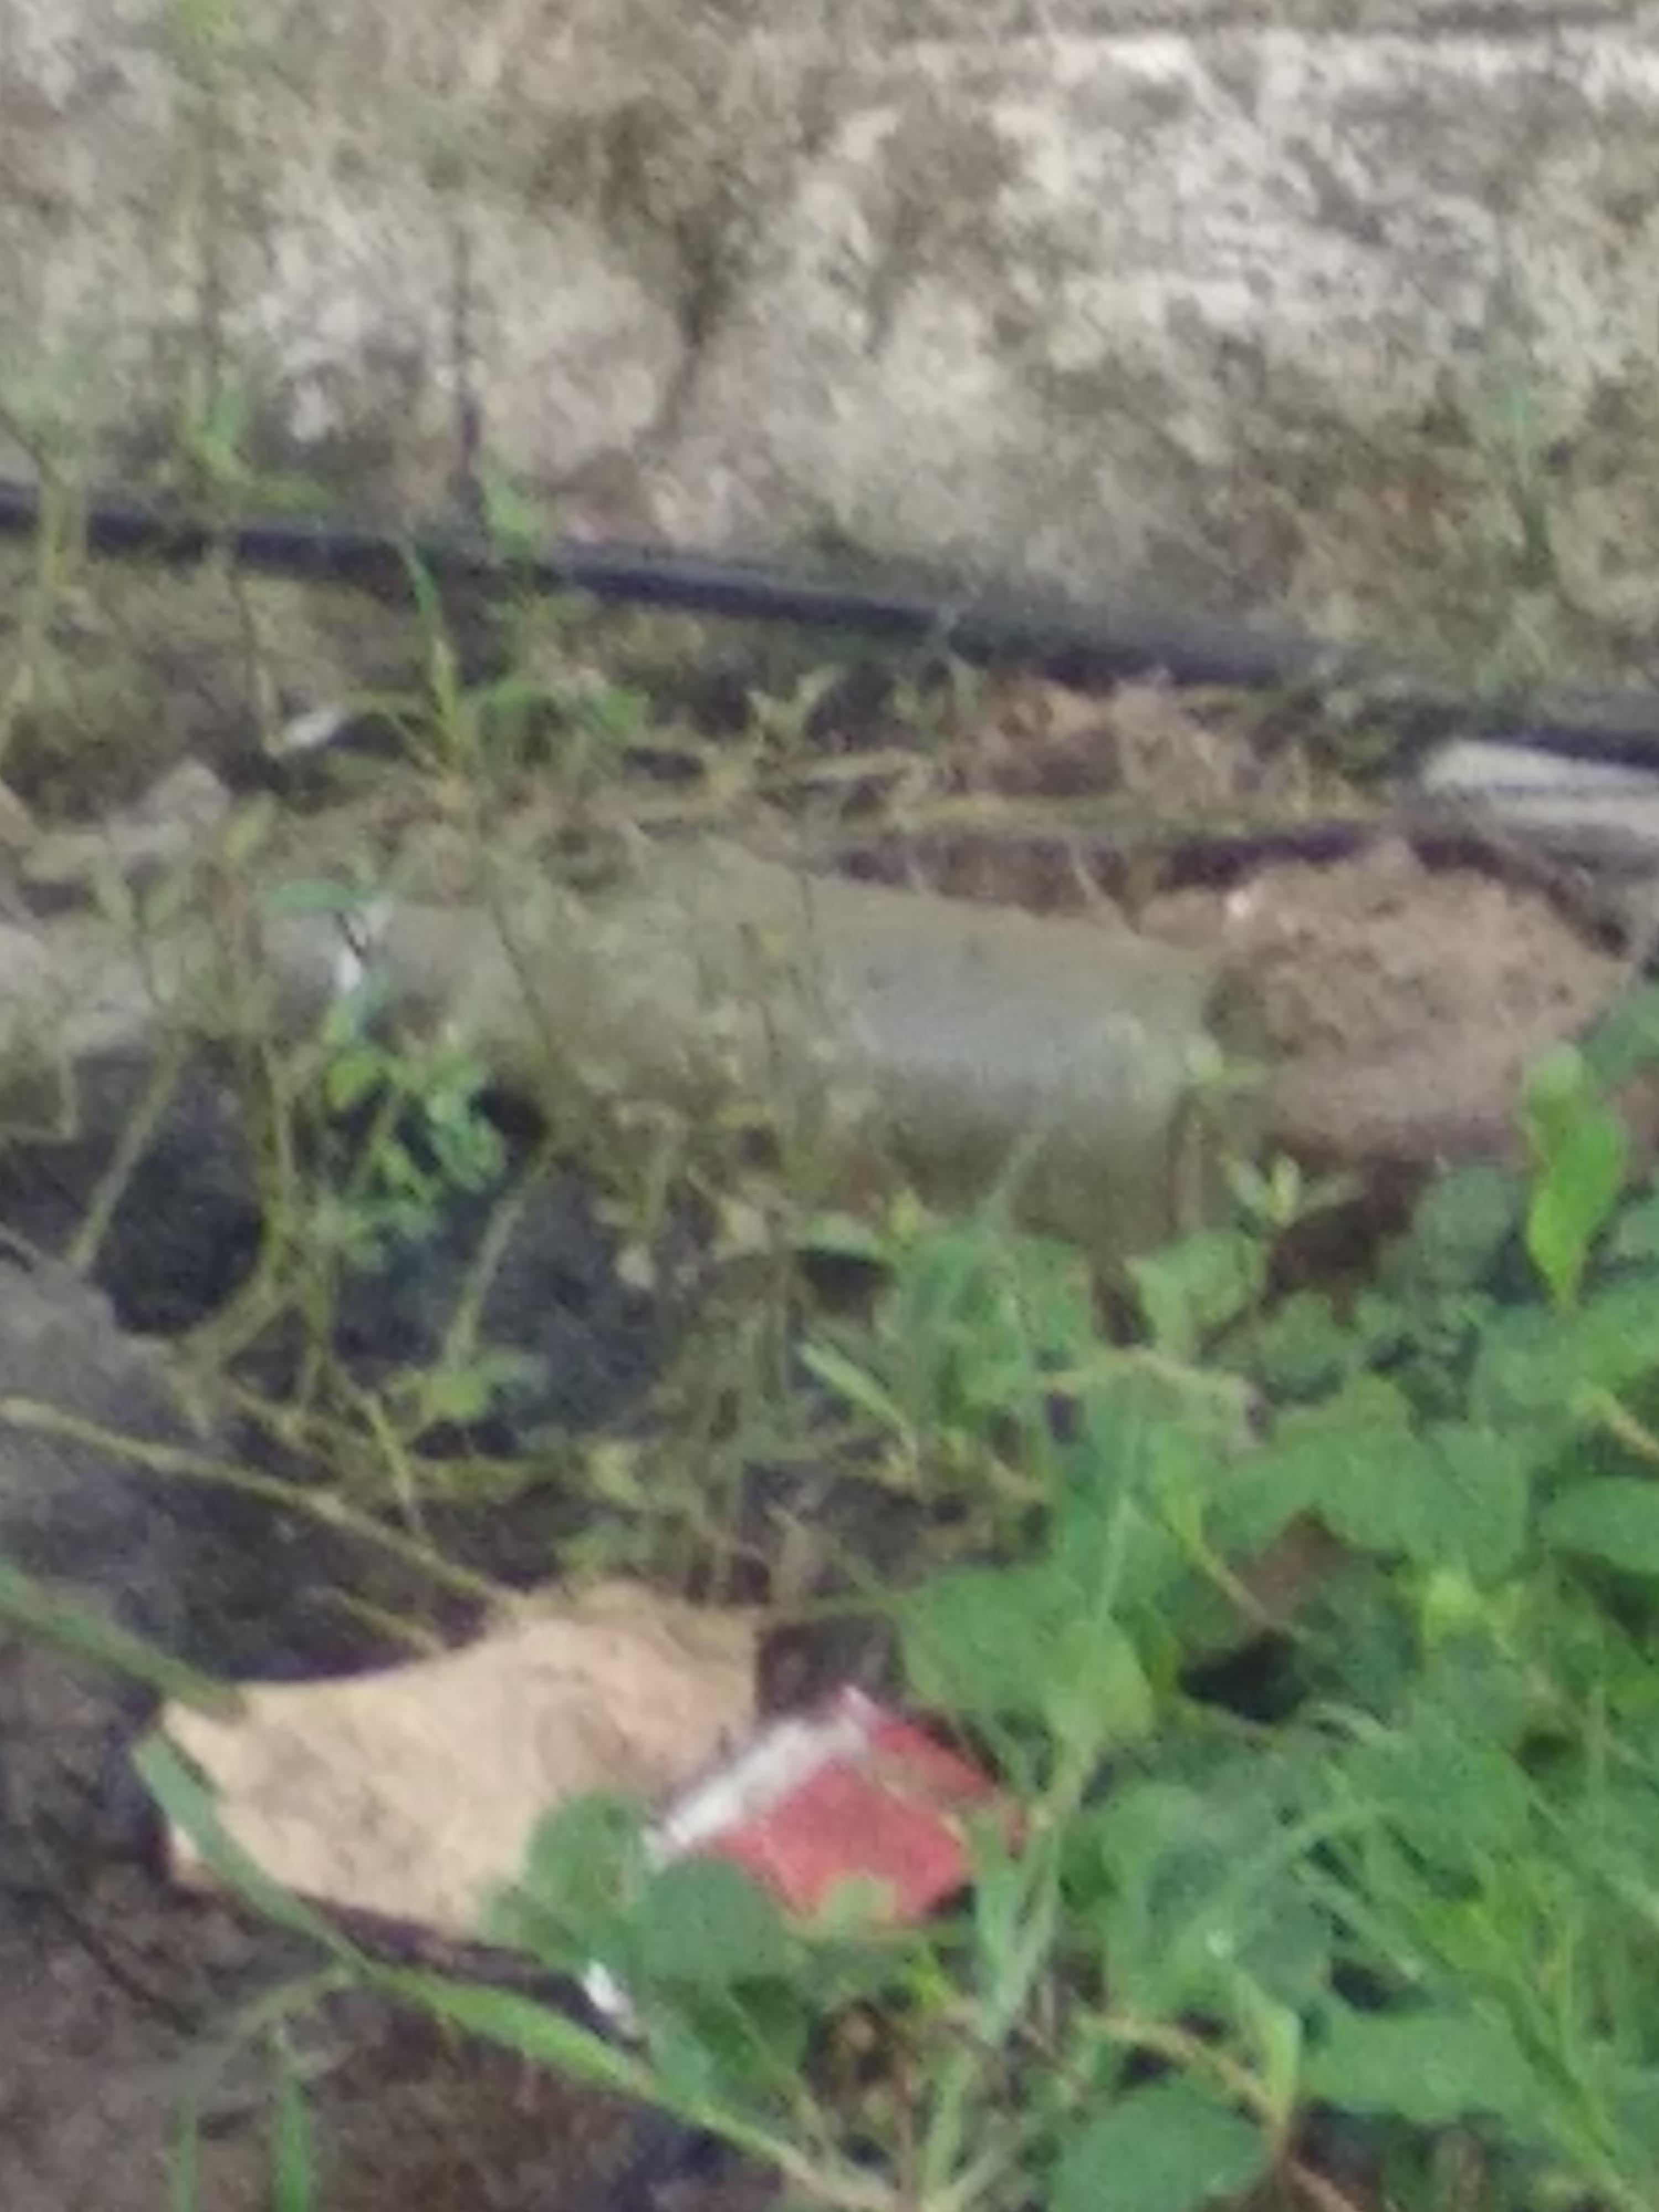trash: (91, 1494, 1100, 2088)
